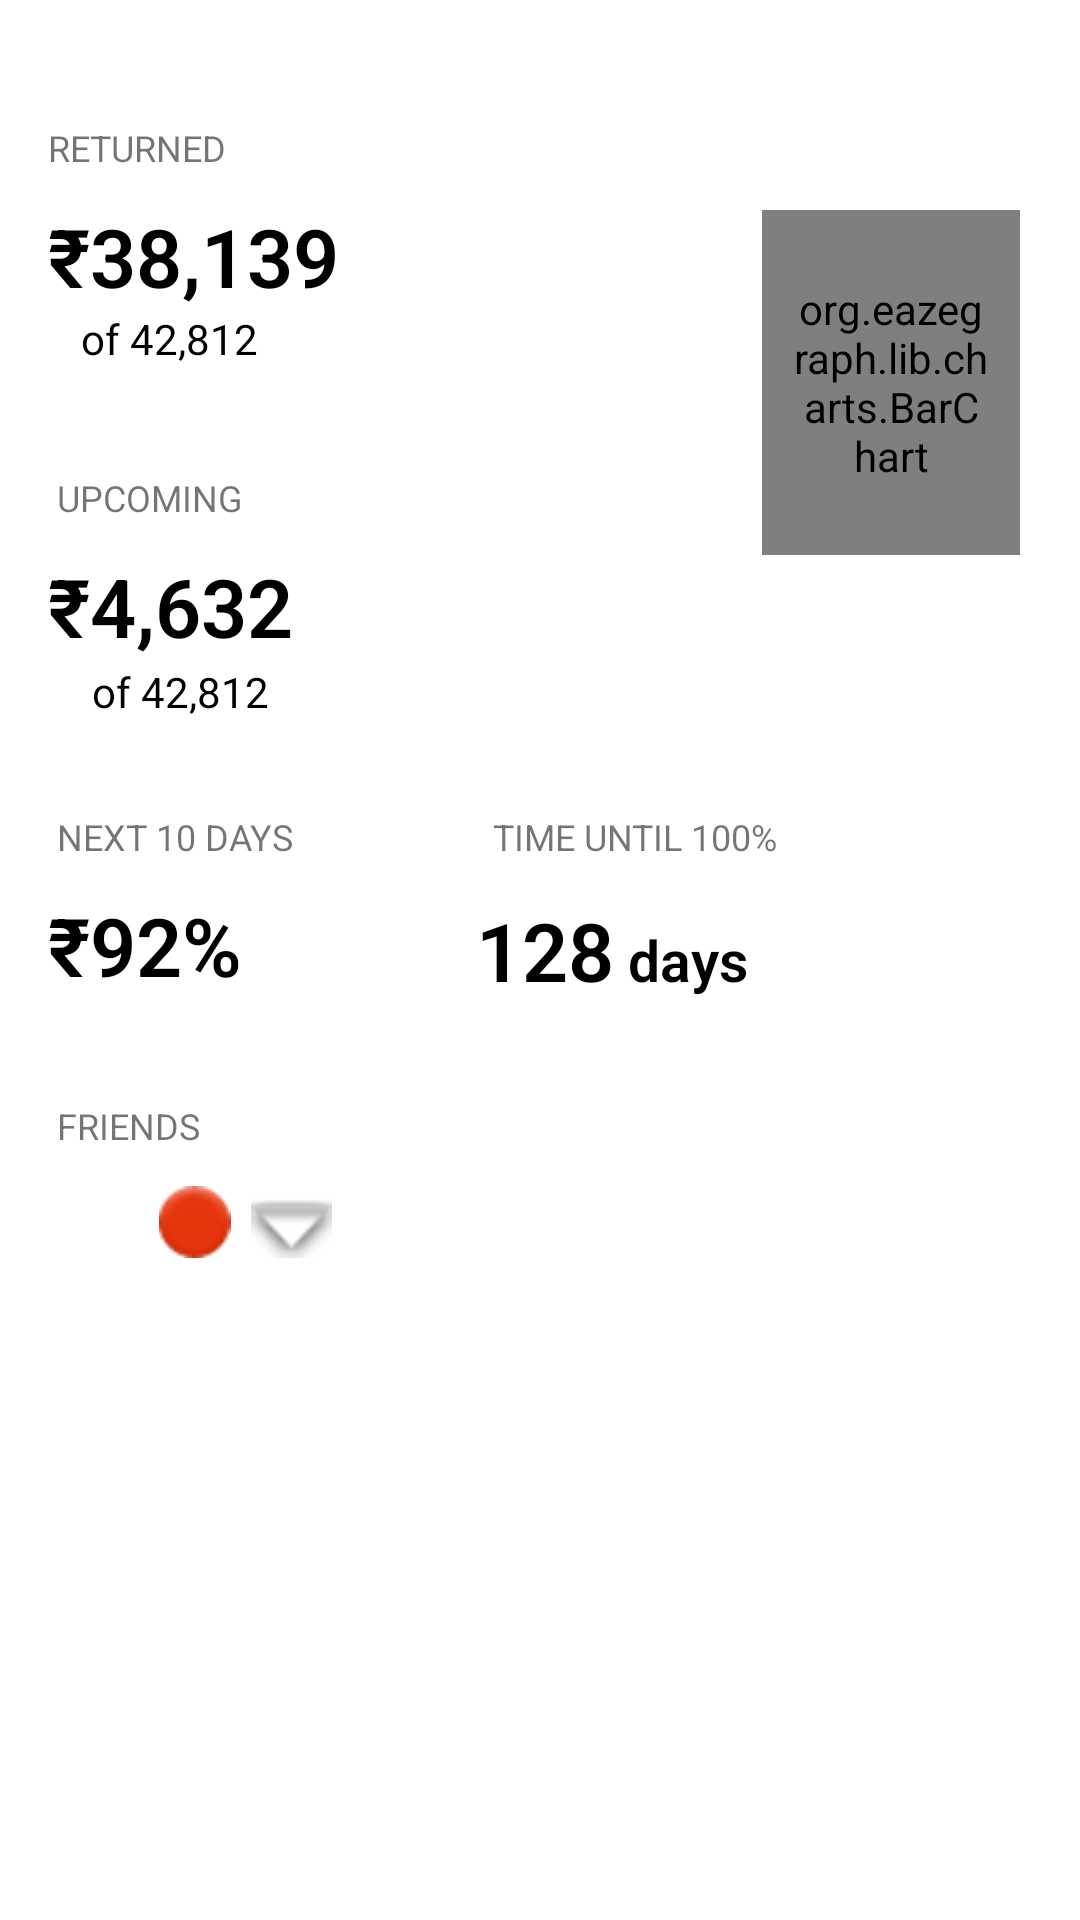

Icons on this 1080*1920 Android screen, each with its box as bbox=(x1, y1, x2, y2):
arrow down float: bbox=(251, 1201, 332, 1256)
